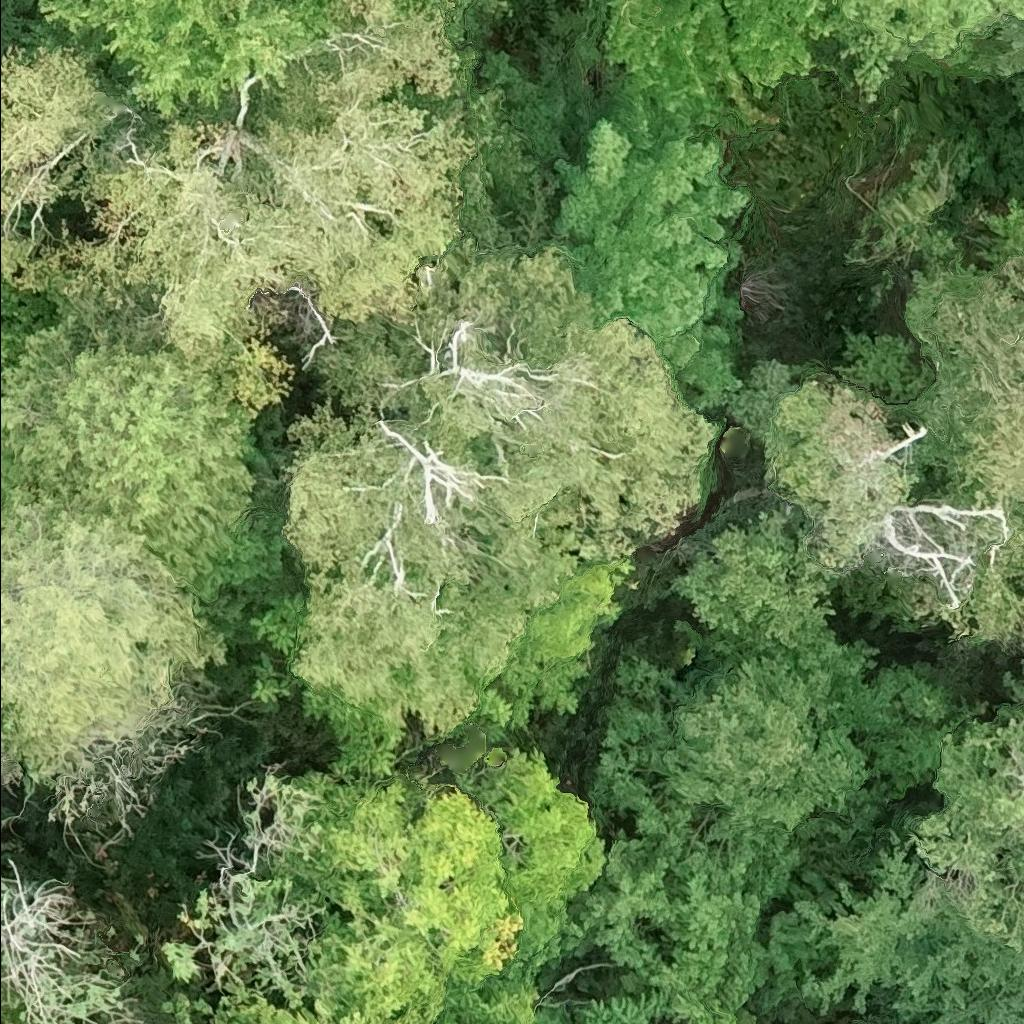crown: (317, 236, 719, 566), (280, 395, 576, 735), (43, 118, 337, 422), (285, 744, 605, 1023), (0, 315, 261, 623), (587, 632, 956, 846), (244, 0, 482, 328), (0, 500, 234, 785), (549, 108, 751, 417), (904, 249, 1023, 646), (787, 836, 1023, 1023), (24, 0, 352, 120), (596, 0, 831, 136), (910, 696, 1023, 955), (0, 856, 146, 1023), (0, 41, 115, 220), (825, 0, 1023, 101), (225, 978, 451, 1023), (538, 988, 742, 1023), (0, 276, 48, 361), (327, 0, 424, 36), (0, 750, 19, 789), (0, 1013, 23, 1023), (426, 0, 447, 8)
